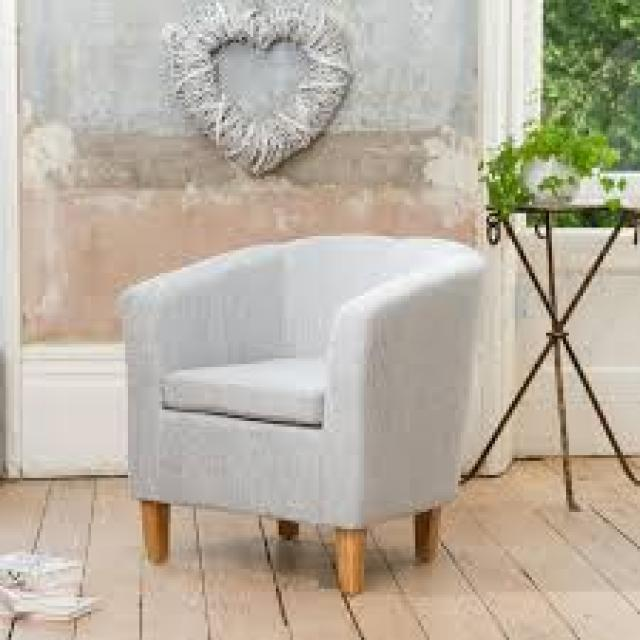chair: (55, 192, 528, 632)
